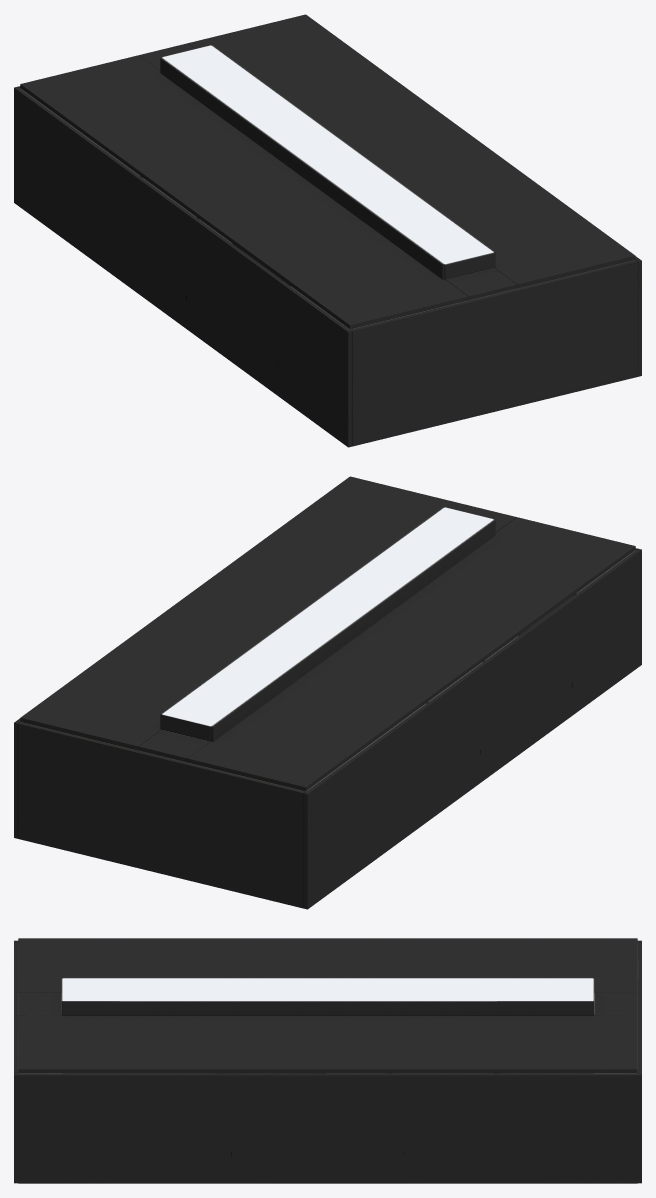
The model's file is modern.glb.
3 views of the same model, one above another, from view 1: azimuth 30°, elevation 25°; view 2: azimuth 150°, elevation 25°; view 3: azimuth 270°, elevation 25° (orthographic). The views are drawn at different scales.
Parts seen in each view (by area): view 1: shell, lamps; view 2: shell, lamps; view 3: shell, lamps, floor.
Part boxes in pixels (<box>): shell: <box>14,14,641,447</box>; lamps: <box>162,45,493,264</box>; shell: <box>14,476,641,909</box>; lamps: <box>162,507,493,726</box>; shell: <box>14,938,641,1183</box>; lamps: <box>62,978,593,1000</box>; floor: <box>18,1183,637,1183</box>.
Bounding box in the file's own units: 14.43 × 6.41 × 28.4.
Materials: 11 (9 with a texture image).
